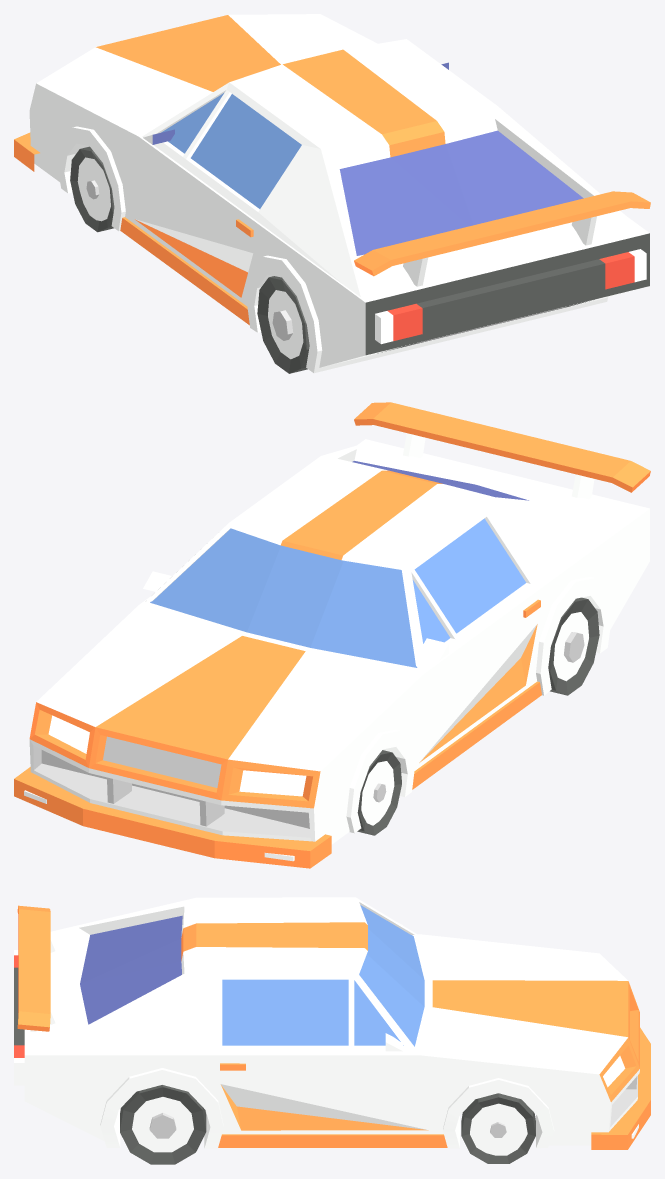
Rendered from transport_sport.004.glb.
The picture shows the model from 3 angles, top to bottom: view 1: azimuth 30°, elevation 25°; view 2: azimuth 150°, elevation 25°; view 3: azimuth 270°, elevation 25°; orthographic projection. The views are drawn at different scales.
Parts seen in each view (by area): view 1: transport_sport.004(Clone); view 2: transport_sport.004(Clone); view 3: transport_sport.004(Clone).
Boxes of the visible parts, left/top/right/bottom form: transport_sport.004(Clone): left=14, top=14, right=650, bottom=373; transport_sport.004(Clone): left=14, top=402, right=650, bottom=868; transport_sport.004(Clone): left=14, top=897, right=650, bottom=1164.
Bounding box in the file's own units: 1.81 × 1.11 × 3.84.
1 material, 1 textured.
